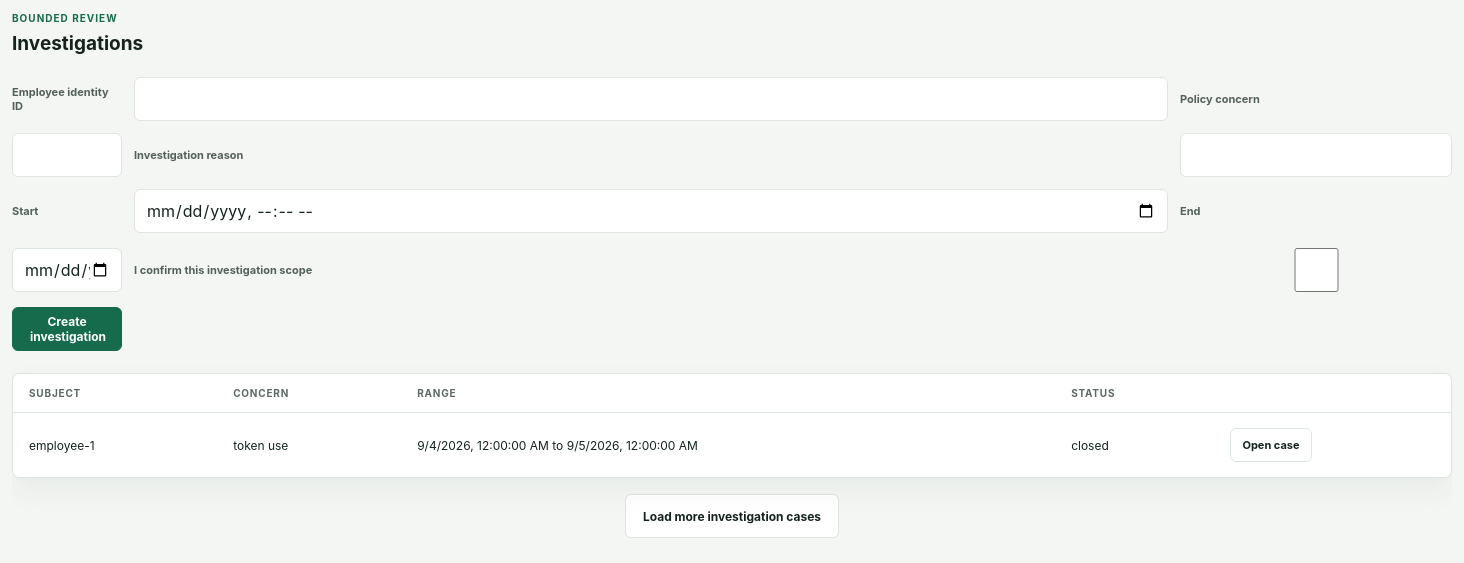
it: InvestigationWorkspace › loads additional investigation case pages without replacing the first page
Click the button "Load more investigation cases" at point(732, 516), box [625, 494, 839, 538]
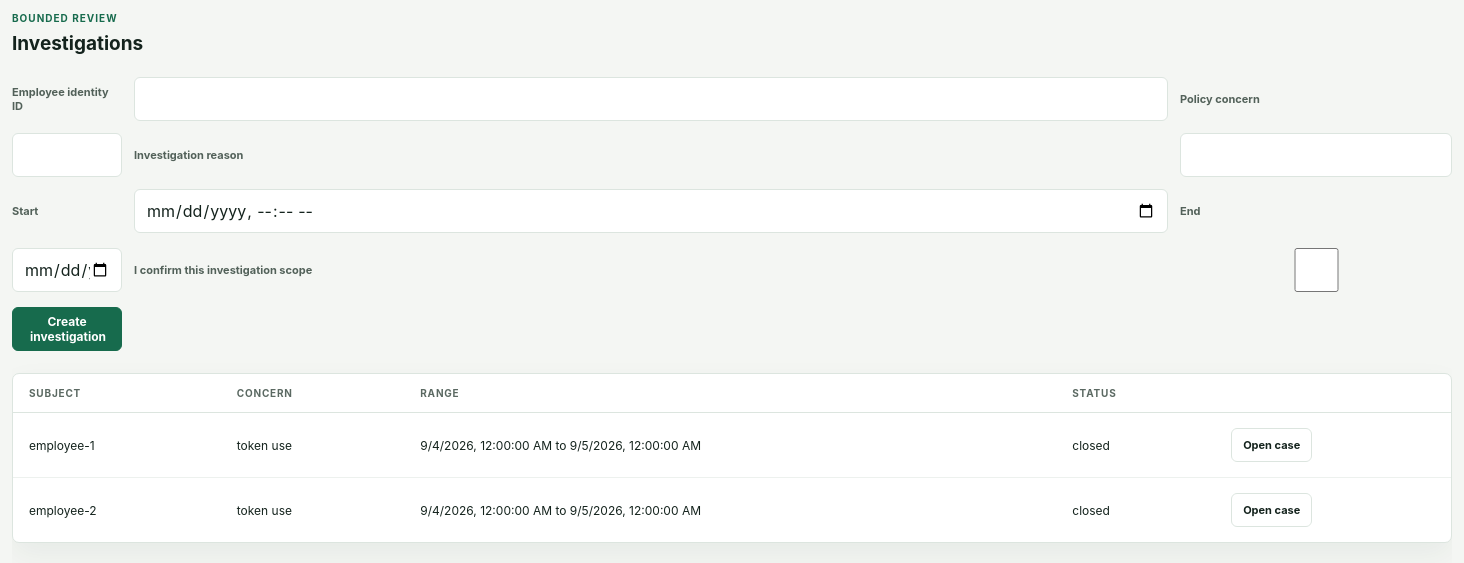
Expected: the text "employee-1" is shown, [13, 412, 221, 478]
Result: the text "employee-2" is shown at [13, 478, 221, 542]
Result: the button "Load more investigation cases" is gone
